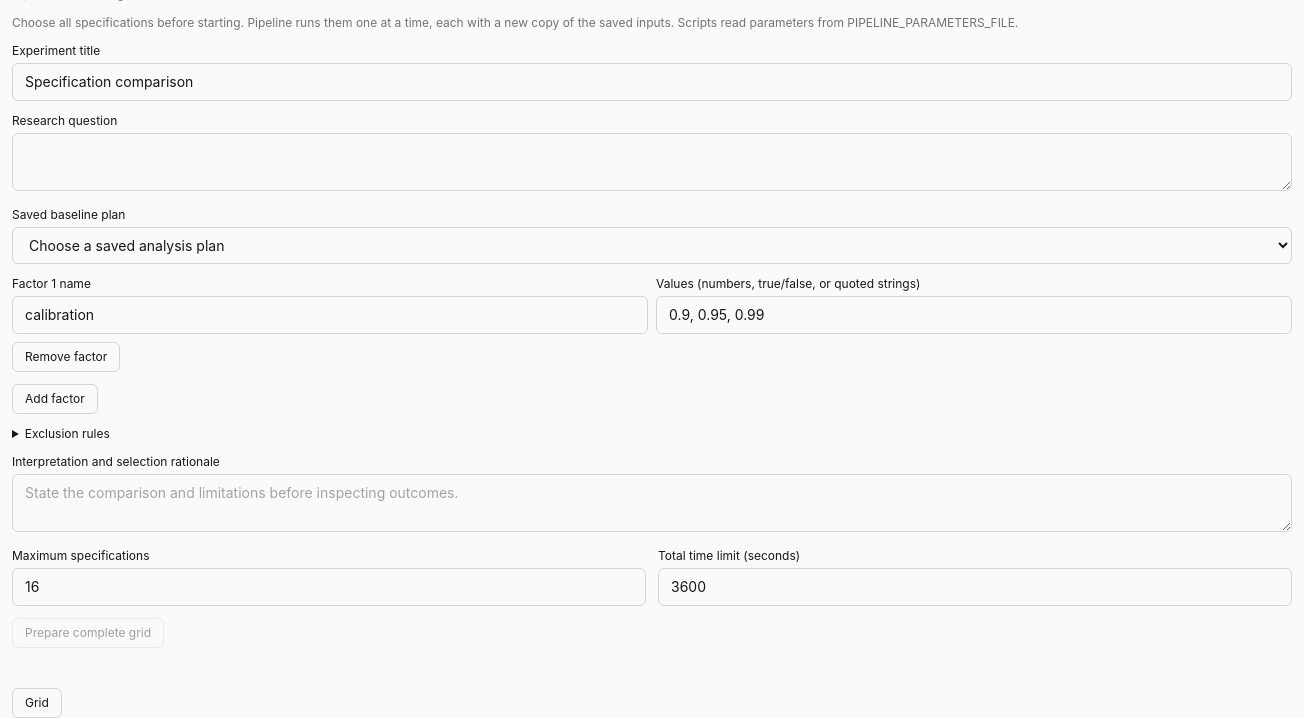
Test: offers only what a running grid can do
(page scrolled)
What coordinates should you click on to do the following:
click the button "Grid"
I would click on:
 (37, 703)
Its box is [12,688,62,717].
(page scrolled)
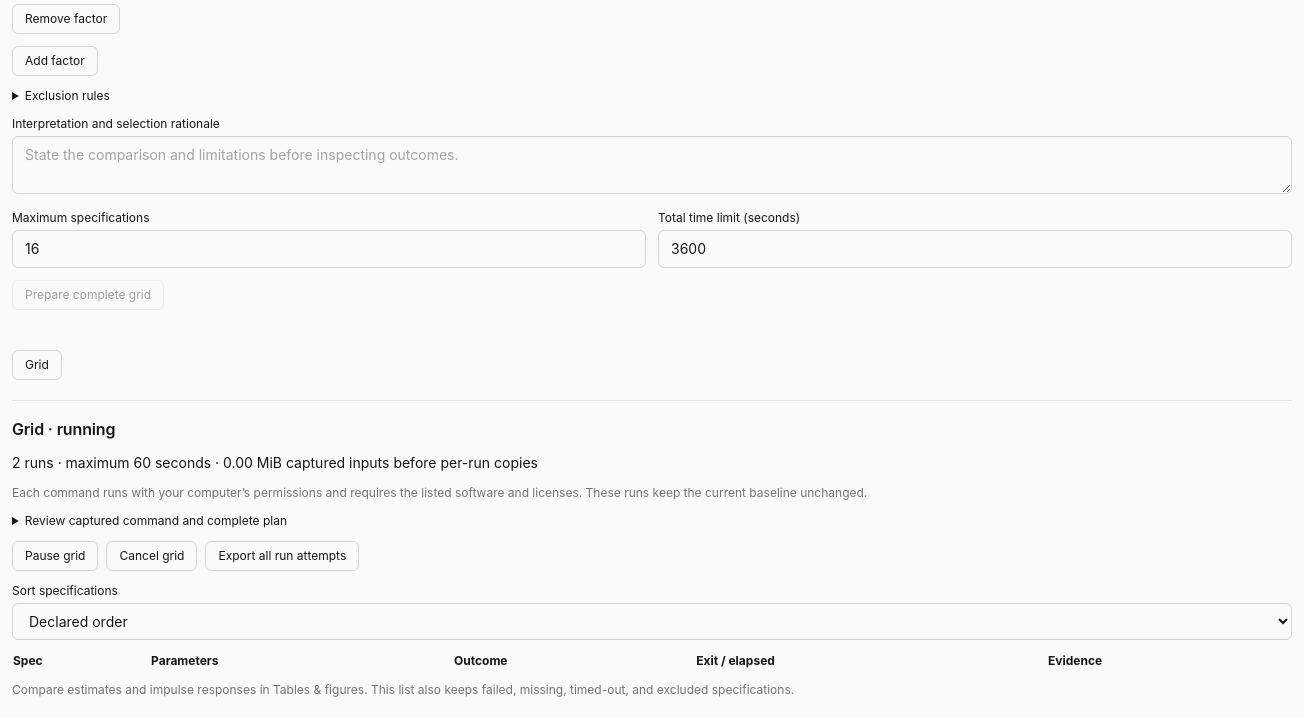
Now the button "Pause grid" is shown, box [12,541,98,571]
Now the button "Cancel grid" is shown, box [106,541,198,571]
